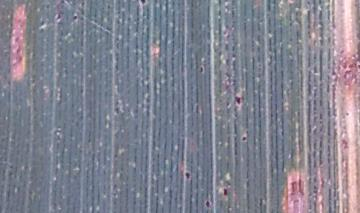tarspot: (233, 89, 245, 111), (218, 184, 232, 201), (182, 167, 193, 184), (195, 61, 207, 76), (201, 196, 213, 210), (52, 12, 63, 23), (239, 132, 249, 144), (71, 11, 79, 24), (135, 1, 149, 8)
